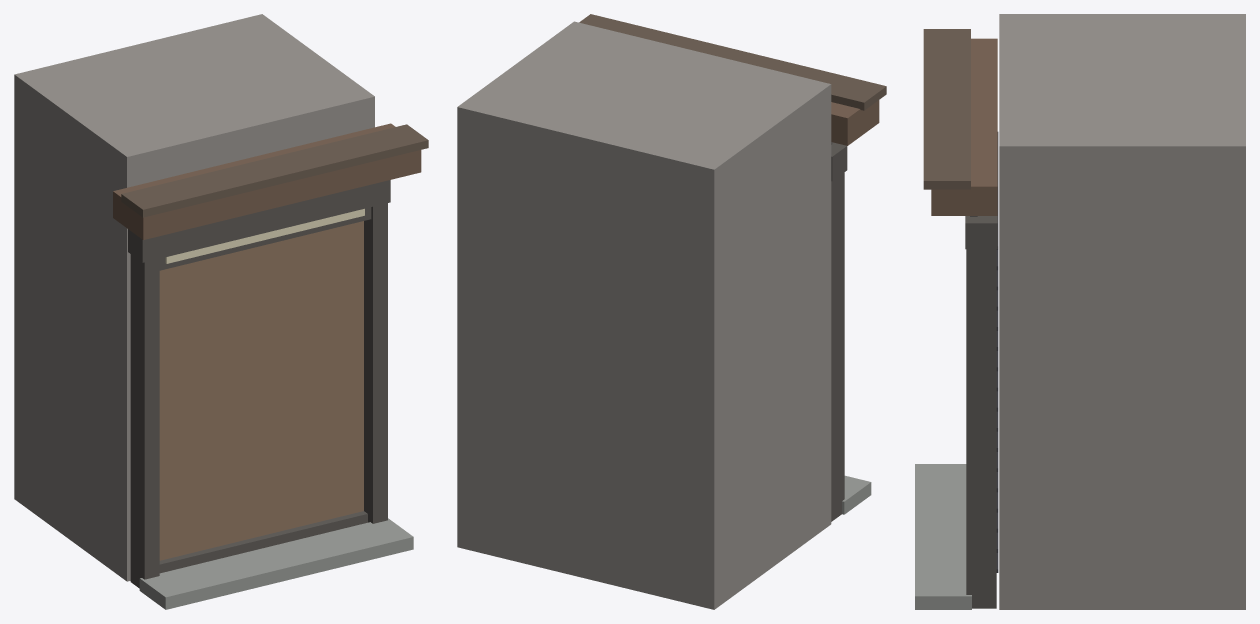
File: prop_shutter_shop_brown.glb
3 views of the same model, side by side, from view 1: azimuth 30°, elevation 25°; view 2: azimuth 150°, elevation 25°; view 3: azimuth 270°, elevation 25° (orthographic). The views are drawn at different scales.
Parts seen in each view (by area): view 1: shutter_shop_brown; view 2: shutter_shop_brown; view 3: shutter_shop_brown.
Part boxes in pixels (left/top/right/bottom): shutter_shop_brown: left=14, top=14, right=428, bottom=609; shutter_shop_brown: left=457, top=14, right=886, bottom=609; shutter_shop_brown: left=915, top=14, right=1245, bottom=609.
Size of the model in its own units: 3.8 by 5.4 by 3.49.
